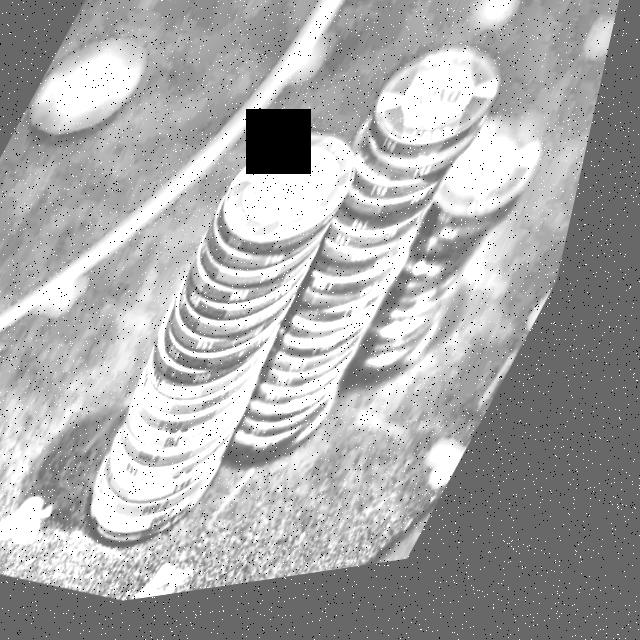Chip: (56, 104, 416, 585), (194, 36, 533, 510), (343, 102, 589, 432)
